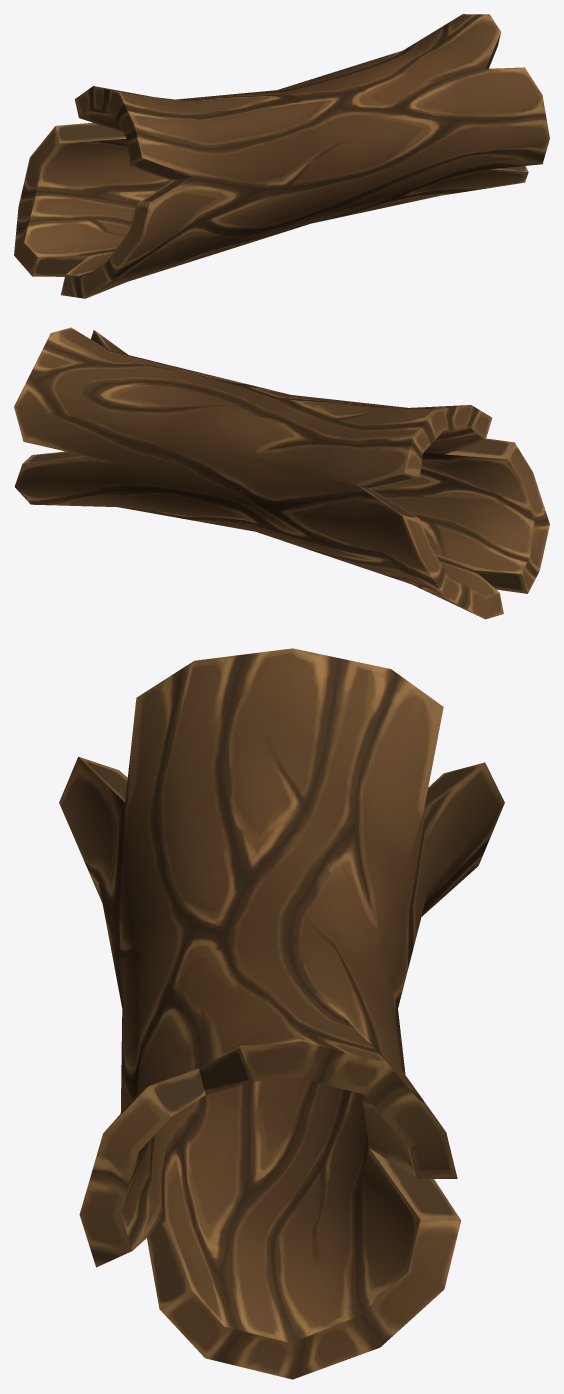
The model's file is Log.FBX.
The picture shows the model from 3 angles, top to bottom: view 1: azimuth 30°, elevation 25°; view 2: azimuth 150°, elevation 25°; view 3: azimuth 270°, elevation 25°; orthographic projection. The views are drawn at different scales.
Visible parts, largest first — view 1: Log; view 2: Log; view 3: Log.
Part boxes in pixels (left/top/right/bottom): Log: left=14, top=14, right=549, bottom=298; Log: left=14, top=327, right=549, bottom=619; Log: left=59, top=648, right=504, bottom=1379.
Size of what is drawn, in the model's own units: 316 by 133 by 117.
